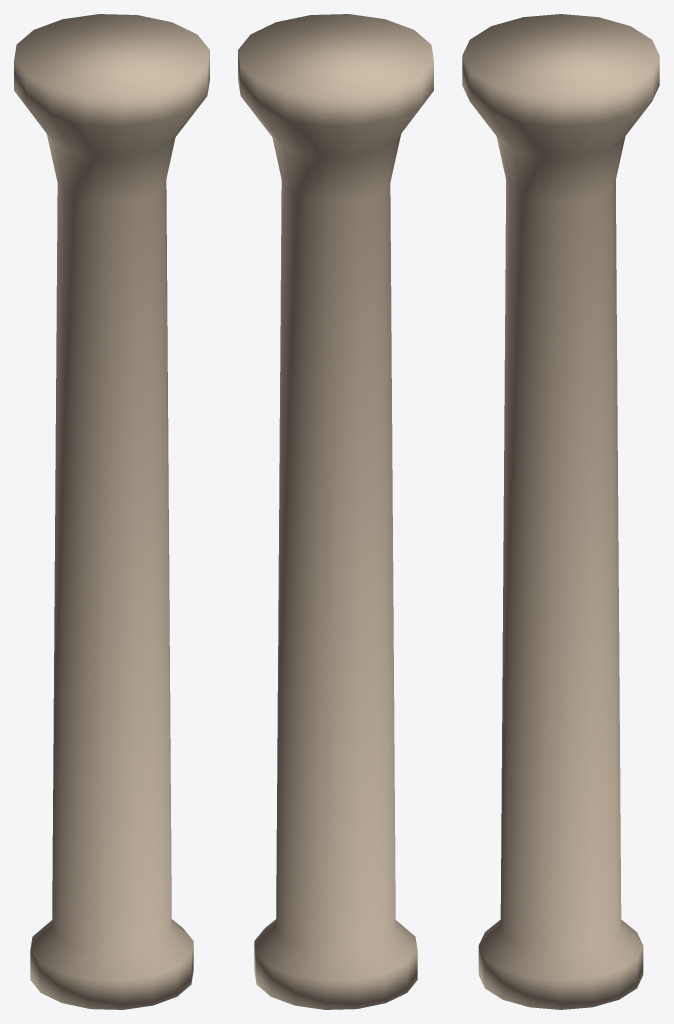
Rendered from city_column.glb.
The picture shows the model from 3 angles, left to right: view 1: azimuth 30°, elevation 25°; view 2: azimuth 150°, elevation 25°; view 3: azimuth 270°, elevation 25°; orthographic projection.
Visible parts, largest first — view 1: CityColumn_Shaft; view 2: CityColumn_Shaft; view 3: CityColumn_Shaft.
Part boxes in pixels (x1=…): CityColumn_Shaft: x1=14, y1=14, x2=209, y2=1009; CityColumn_Shaft: x1=238, y1=14, x2=433, y2=1009; CityColumn_Shaft: x1=462, y1=14, x2=659, y2=1009.
Size of the model in its own units: 0.72 by 3.7 by 0.72.
